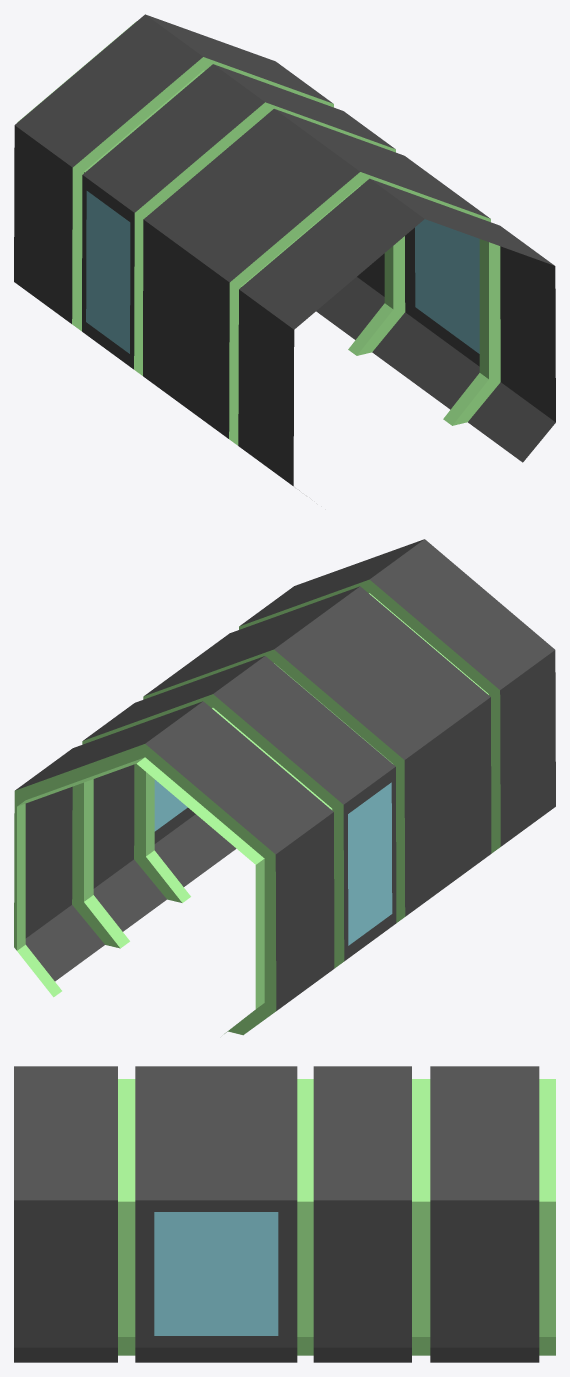
Rendered from Corridor_window.FBX.
3 views of the same model, one above another, from view 1: azimuth 30°, elevation 25°; view 2: azimuth 150°, elevation 25°; view 3: azimuth 270°, elevation 25° (orthographic). The views are drawn at different scales.
Visible parts, largest first — view 1: Corridor_window; view 2: Corridor_window; view 3: Corridor_window.
Boxes of the visible parts, left/top/right/bottom form: Corridor_window: left=14, top=14, right=555, bottom=490; Corridor_window: left=14, top=539, right=555, bottom=1035; Corridor_window: left=14, top=1066, right=555, bottom=1362.
Bounding box in the file's own units: 143 × 139 × 272.
